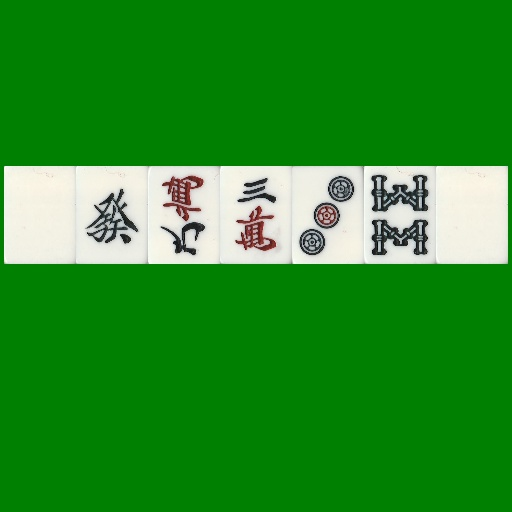3m: (220, 166, 292, 264)
3p: (292, 166, 364, 264)
8s: (364, 166, 436, 264)
9m: (148, 166, 220, 264)
hatsu: (76, 166, 148, 264)
white: (4, 166, 76, 264), (436, 166, 508, 264)
